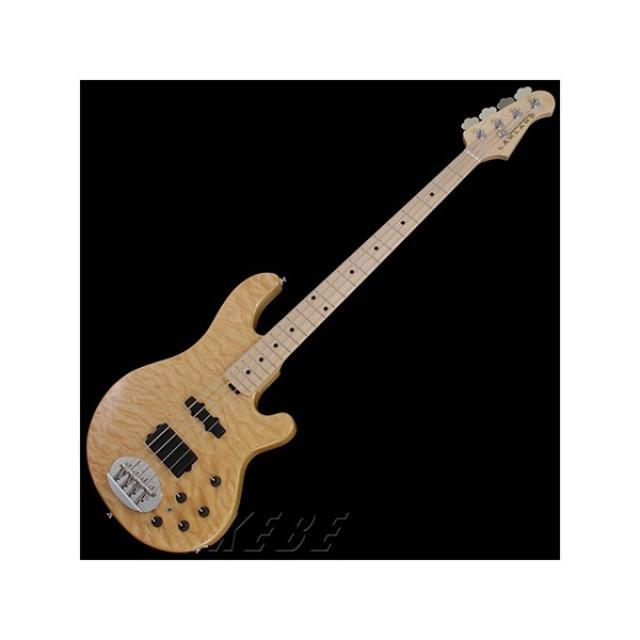bass: (87, 88, 554, 551)
